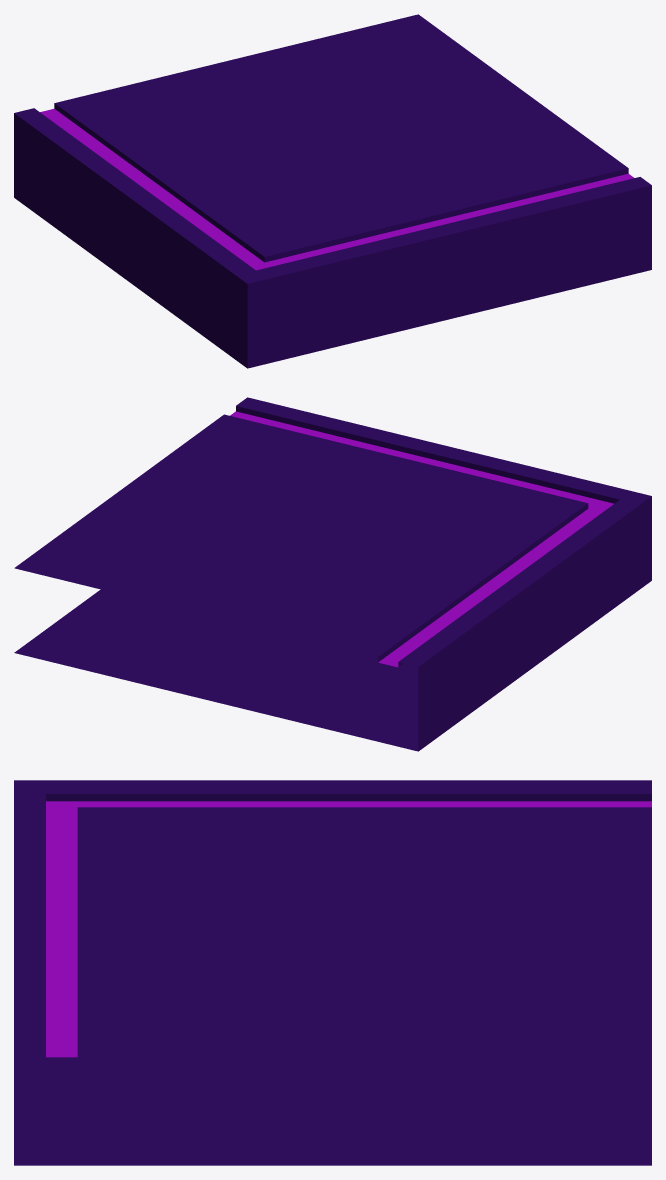
File: floor_2.fbx
The picture shows the model from 3 angles, top to bottom: view 1: azimuth 30°, elevation 25°; view 2: azimuth 150°, elevation 25°; view 3: azimuth 270°, elevation 25°; orthographic projection. The views are drawn at different scales.
Parts seen in each view (by area): view 1: pCube8; view 2: pCube8; view 3: pCube8.
Boxes of the visible parts, x1,y1,x2,y2 form: pCube8: (14, 14, 651, 368); pCube8: (14, 397, 651, 751); pCube8: (14, 780, 651, 1165).
Bounding box in the file's own units: 100 × 20 × 100.
